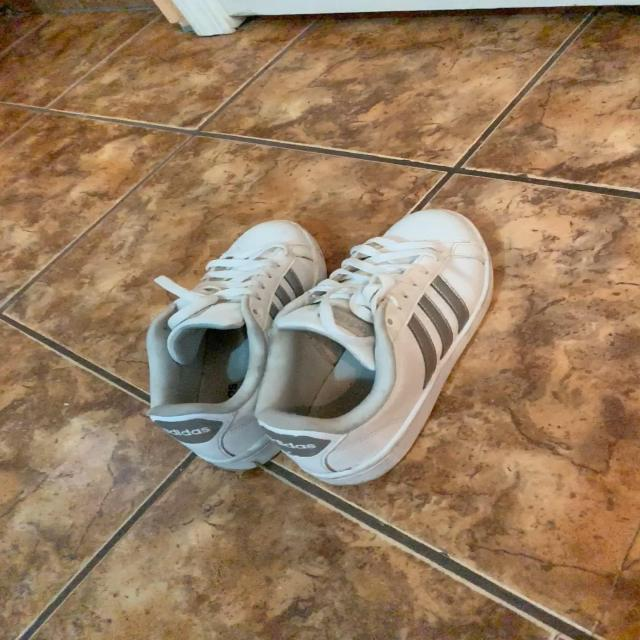shoe: (264, 209, 494, 480), (144, 221, 324, 479)
